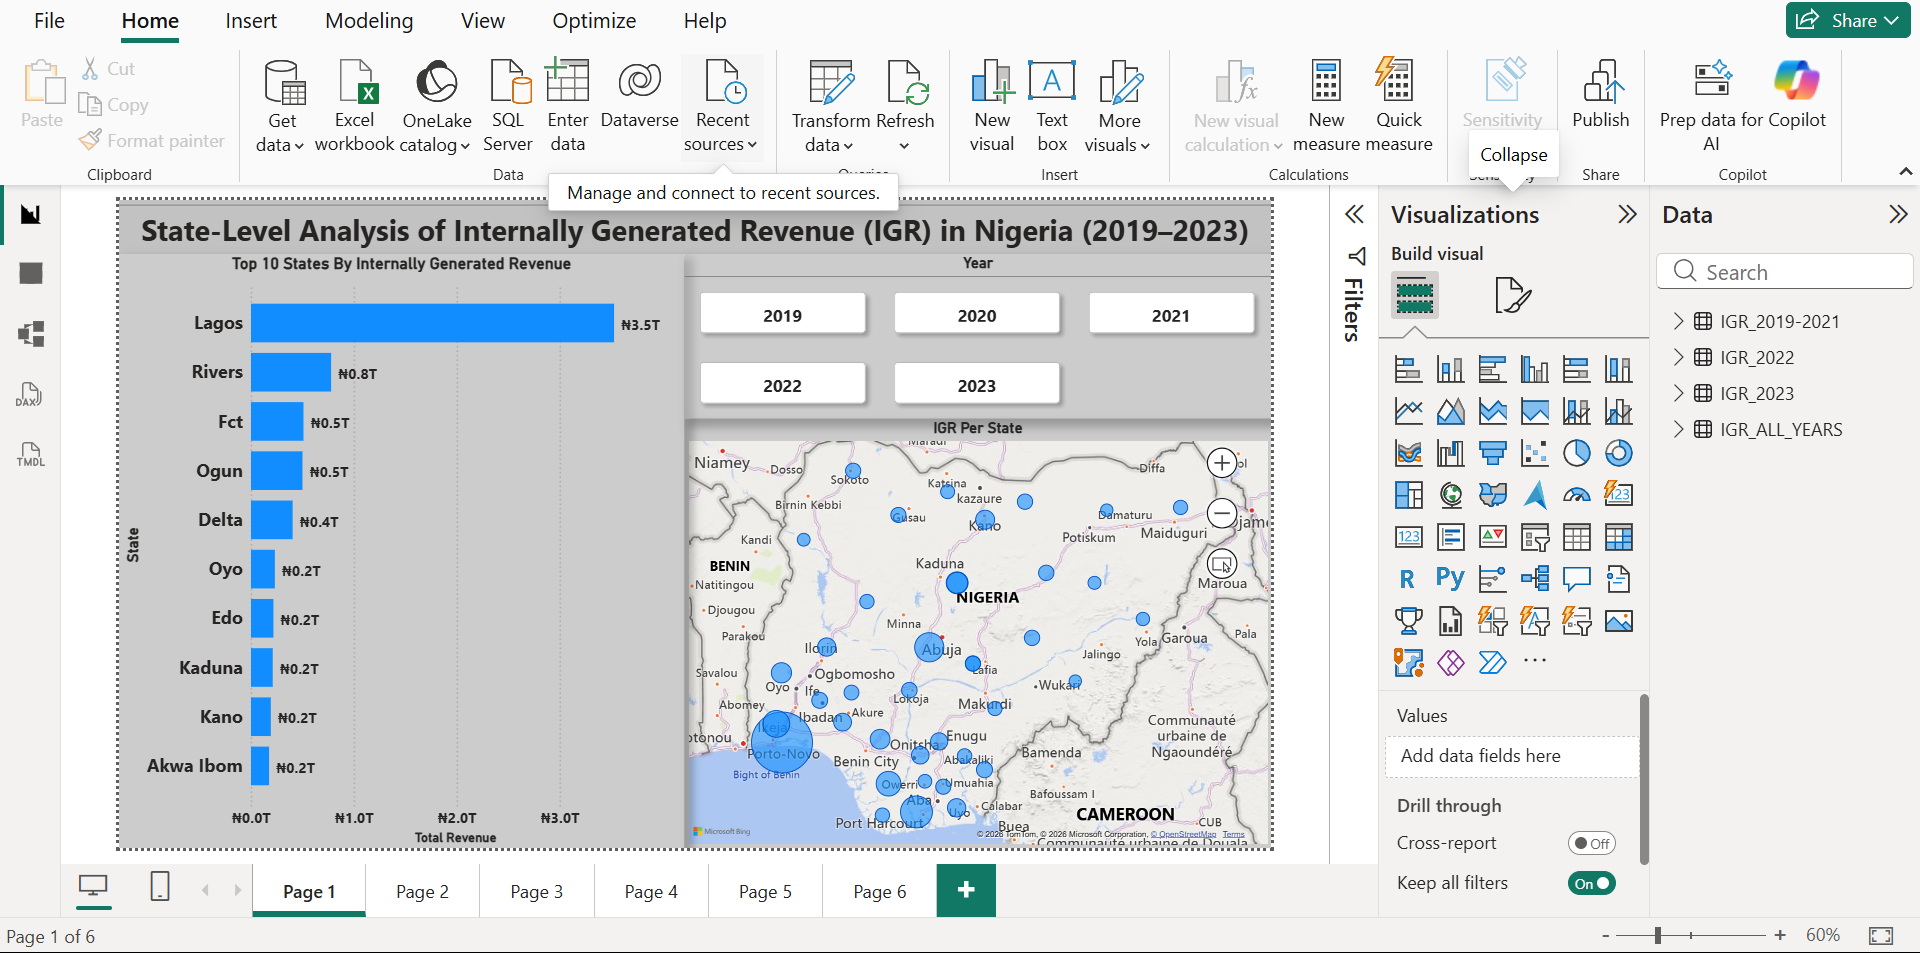

The page's visual inventory and layout, read from the dashboard file:
{"tool":"powerbi","page":{"name":"Page 1","canvas":[1280,720],"ordinal":0},"visuals":[{"type":"map","title":"IGR Per State","fields":{"Category":["IGR_ALL_YEARS.State"],"Size":["Avg(IGR_ALL_YEARS.Total)"]},"box":[628.3,242.9,652.5,477.7],"z":0},{"type":"textbox","box":[0,0,1280.8,59.9],"z":1000},{"type":"barChart","title":"Top 10 States By Internally Generated Revenue","fields":{"Category":["IGR_ALL_YEARS.State"],"Y":["Sum(IGR_ALL_YEARS.Total)","Sum(IGR_ALL_YEARS.Year)"]},"box":[0,59.9,628.3,660.6],"z":2000},{"type":"advancedSlicerVisual","fields":{"Values":["IGR_ALL_YEARS.Year"]},"box":[628.3,59.9,652.5,183],"z":3000}]}

Visuals, with their boxes on the page's 1280x720 design canvas (x1, y1, x2, y2). These are canvas units, not pixel positions in the 1920x953 screenshot, which may show the page scaled, cropped or inside an application window:
"IGR Per State" map: 628 243 1281 721
textbox: 0 0 1281 60
"Top 10 States By Internally Generated Revenue" barChart: 0 60 628 720
advancedSlicerVisual - IGR_ALL_YEARS.Year: 628 60 1281 243
